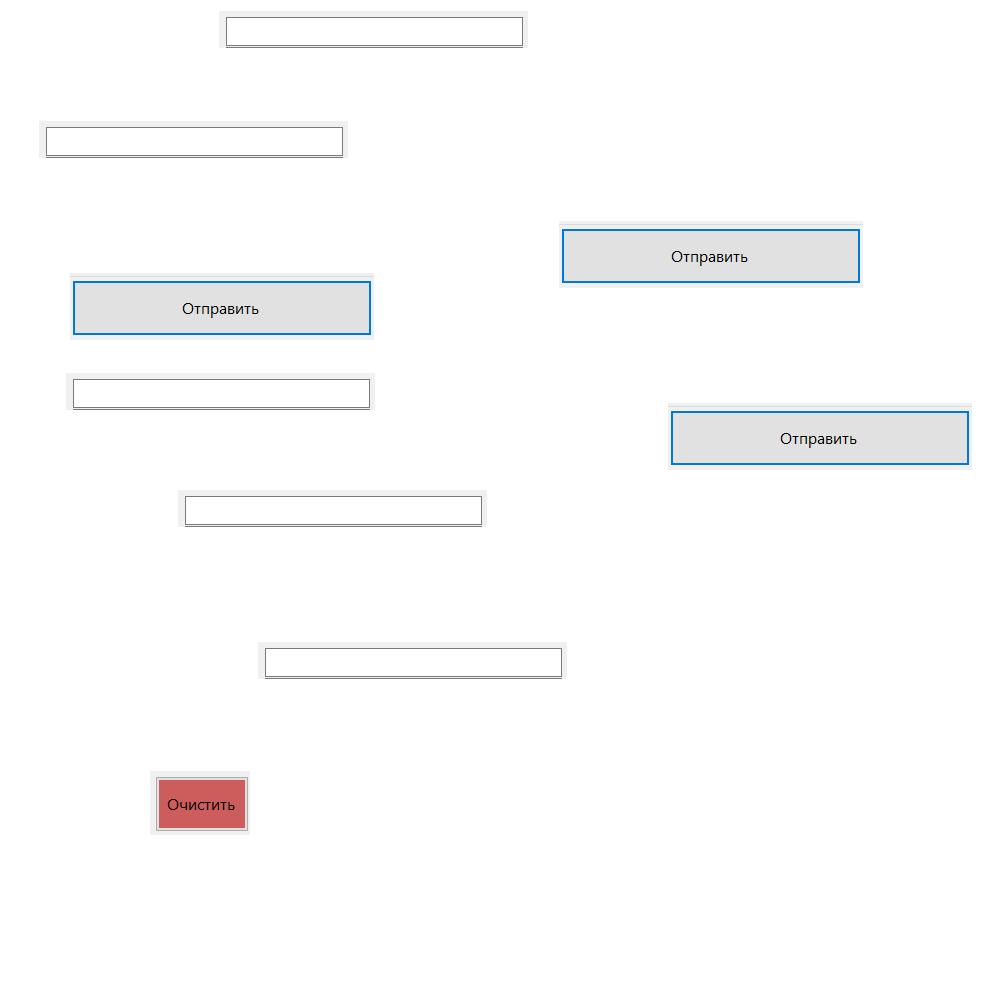Button: (668, 403, 972, 470), (70, 273, 374, 340), (559, 221, 863, 288), (150, 771, 250, 835)
EditText-: (258, 642, 567, 679), (219, 11, 528, 48), (39, 121, 348, 158), (66, 373, 375, 410), (178, 490, 487, 527)
